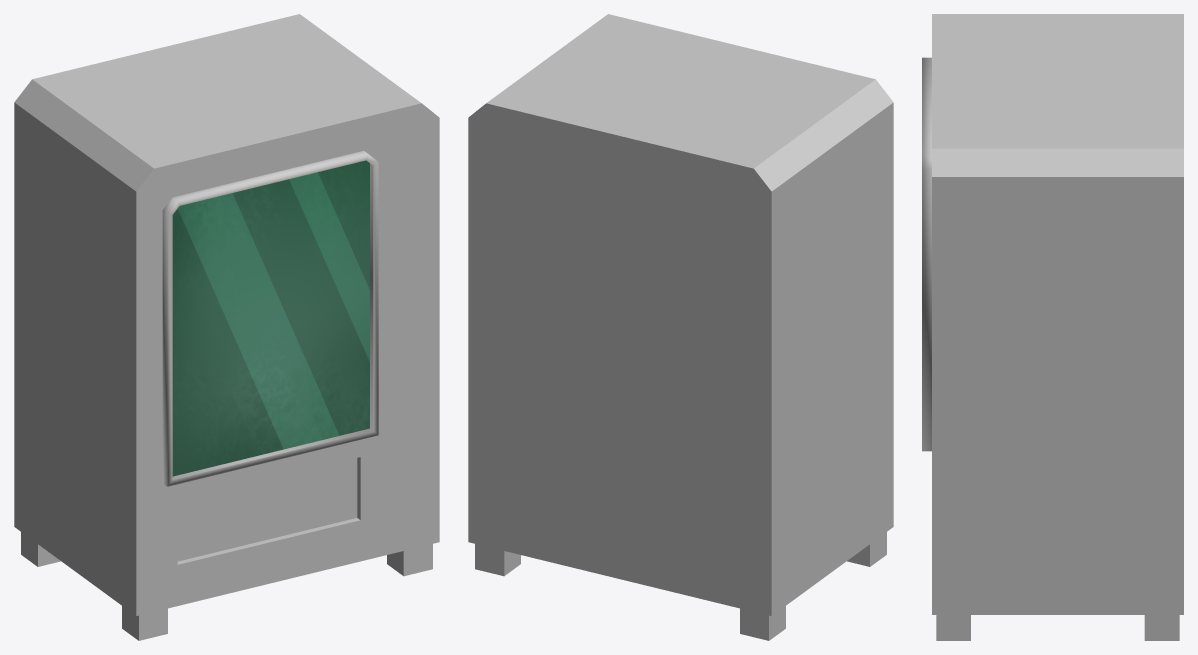
Rendered from jiedao_BJ_040.fbx.
3 views of the same model, side by side, from view 1: azimuth 30°, elevation 25°; view 2: azimuth 150°, elevation 25°; view 3: azimuth 270°, elevation 25° (orthographic). The views are drawn at different scales.
Visible parts, largest first — view 1: BJ_014; view 2: BJ_014; view 3: BJ_014.
Boxes of the visible parts, <box> form: BJ_014: <box>14,14,439,640</box>; BJ_014: <box>468,14,893,640</box>; BJ_014: <box>922,14,1183,640</box>.
Bounding box in the file's own units: 87.22 × 63.18 × 129.
